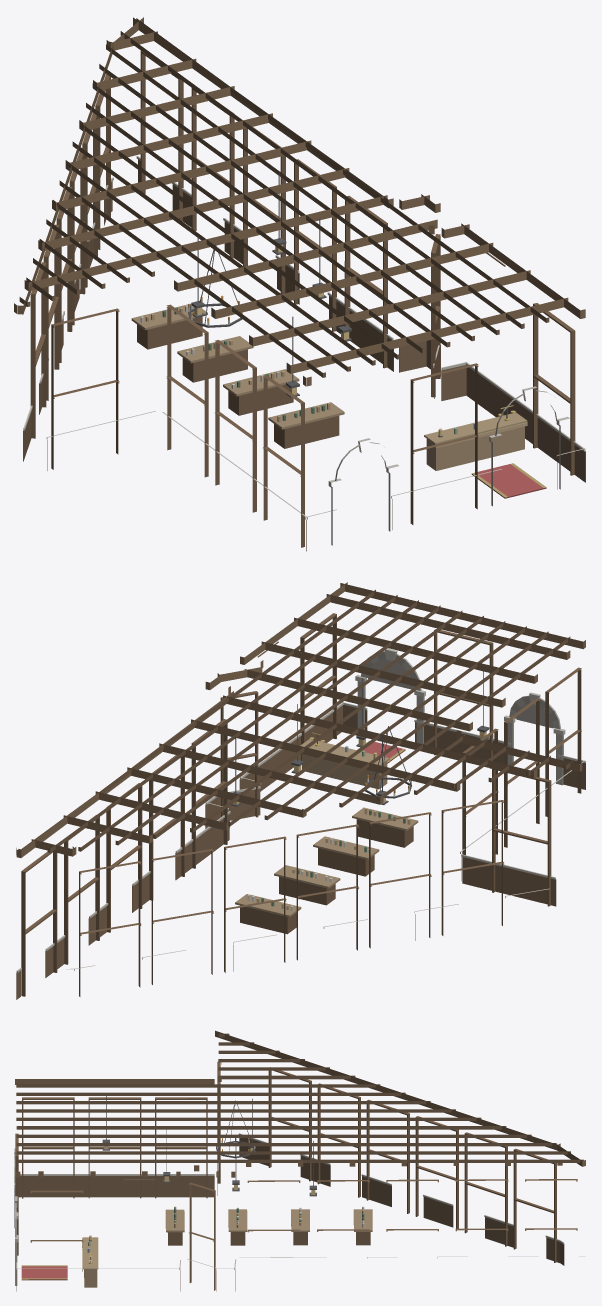
Rendered from interior_b001.glb.
3 renders of one model, top to bottom at view 1: azimuth 30°, elevation 25°; view 2: azimuth 150°, elevation 25°; view 3: azimuth 270°, elevation 25°, orthographic. The views are drawn at different scales.
Parts seen in each view (by area): view 1: Interior_B001_mesh; view 2: Interior_B001_mesh; view 3: Interior_B001_mesh.
Boxes of the visible parts, bbox=[...] form: Interior_B001_mesh: bbox=[14, 17, 585, 551]; Interior_B001_mesh: bbox=[16, 582, 585, 999]; Interior_B001_mesh: bbox=[14, 1030, 585, 1291].
Size of the model in its own units: 16.31 by 6.36 by 27.47.
